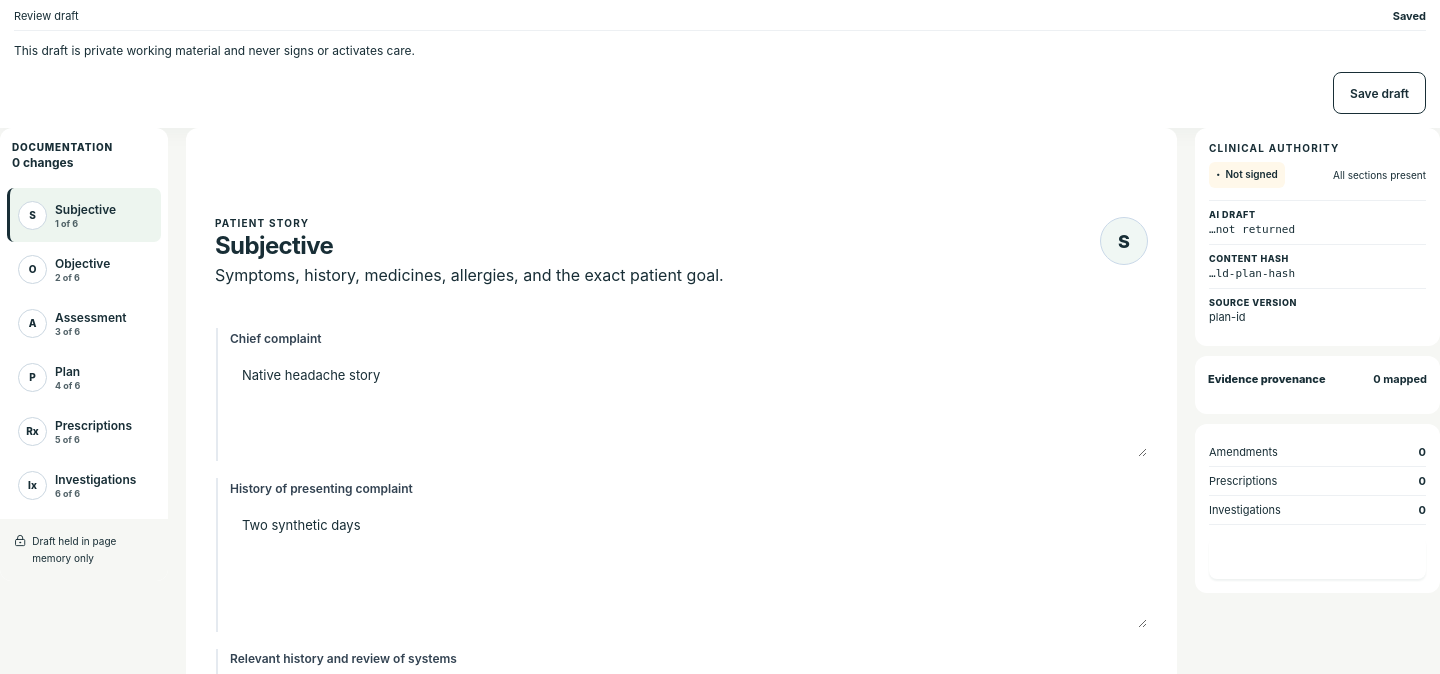
Test: a save response for different content cannot authorize the visible edit
(page scrolled)
Replace the text in the text box labelled "Chief complaint" with "Visible exact edit": point(688, 405) x1=230 y1=353 x2=1147 y2=457
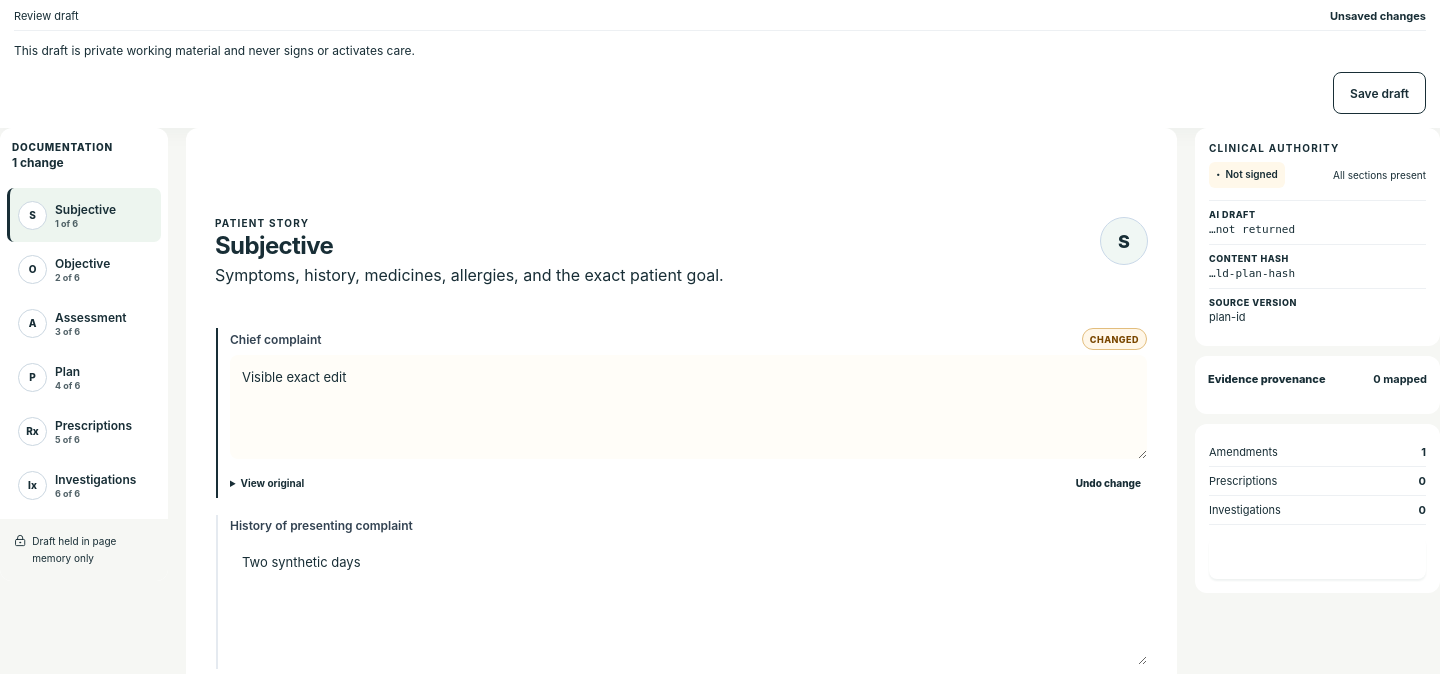
Click the button "Save draft": point(1380, 93) x1=1333 y1=72 x2=1426 y2=114
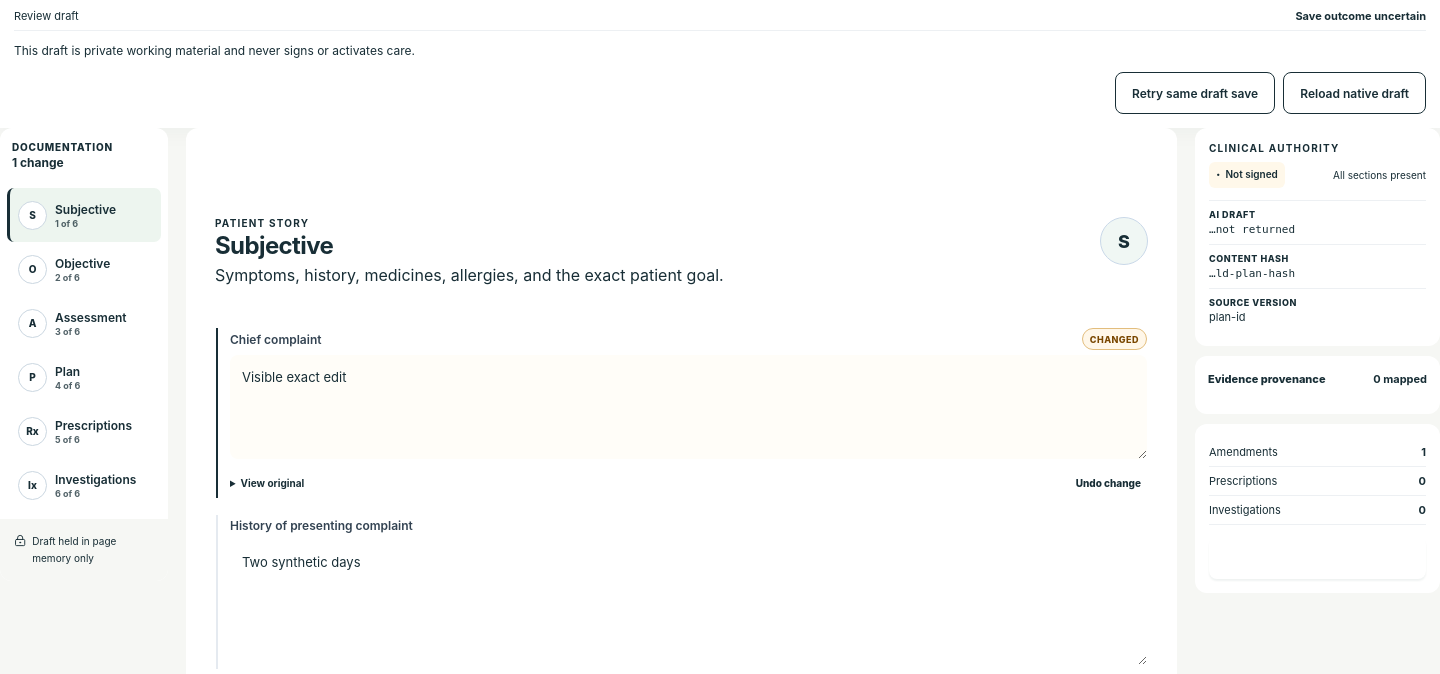
Expected: the text "Save outcome uncertain" is shown, x1=1295 y1=9 x2=1426 y2=23
Expected: the button "Reload native draft" is shown, x1=1283 y1=72 x2=1426 y2=114
